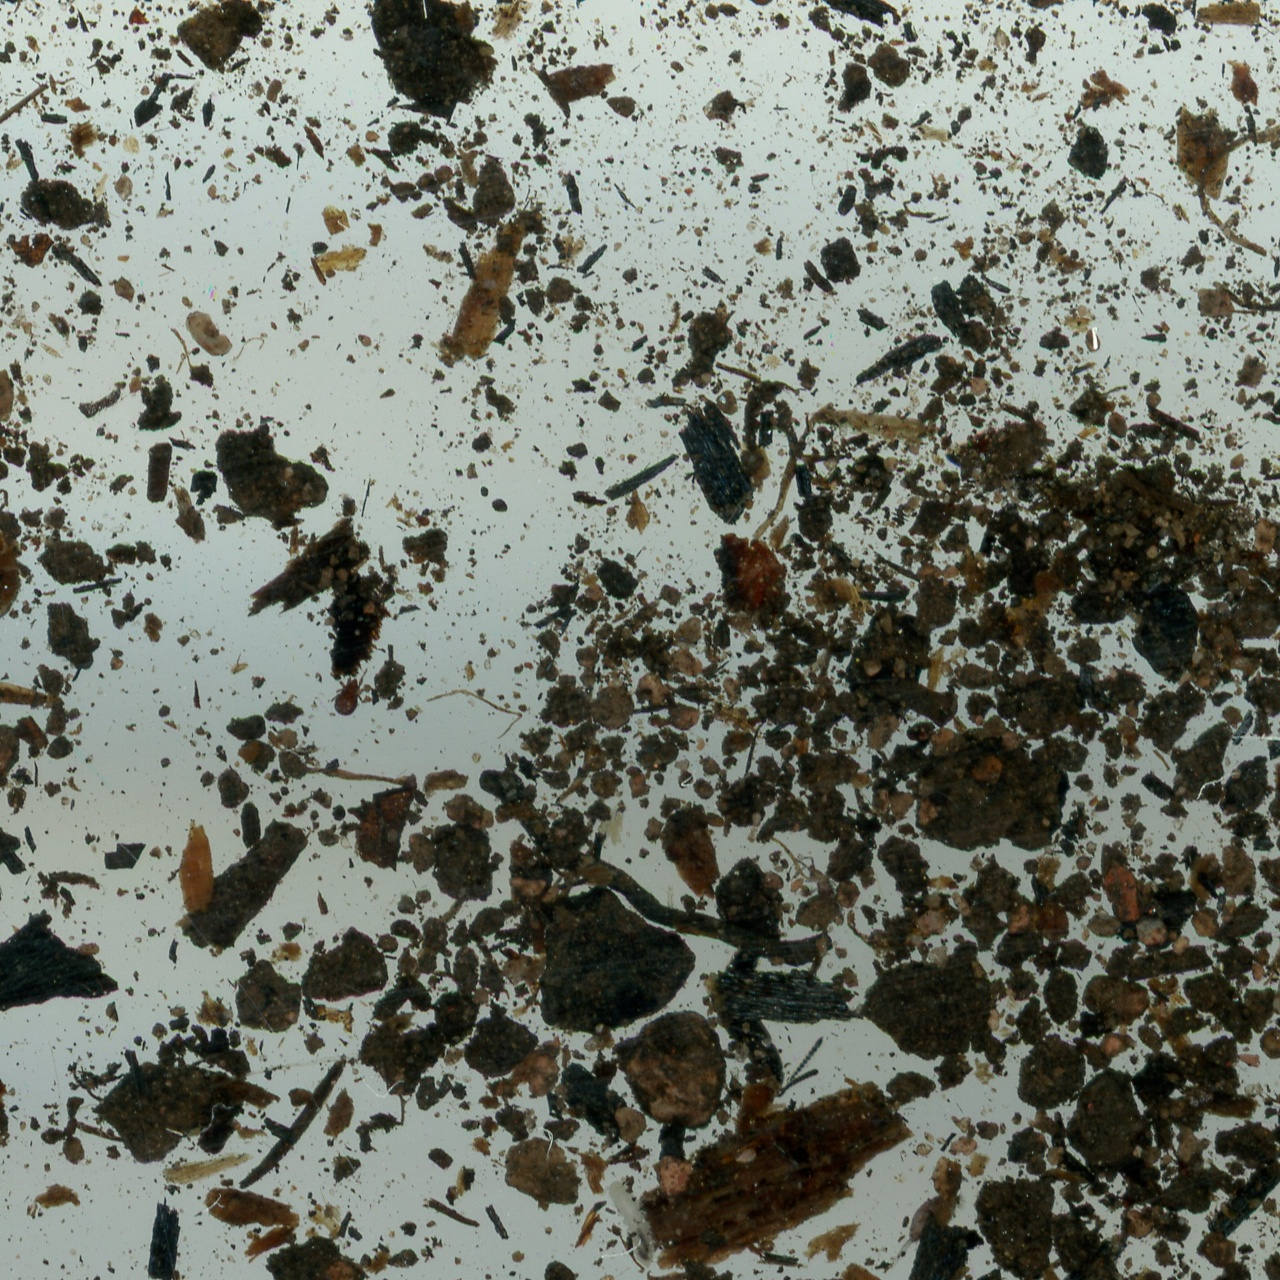arthropod: (703, 937, 828, 1120), (892, 1154, 970, 1267), (602, 1174, 658, 1276)
